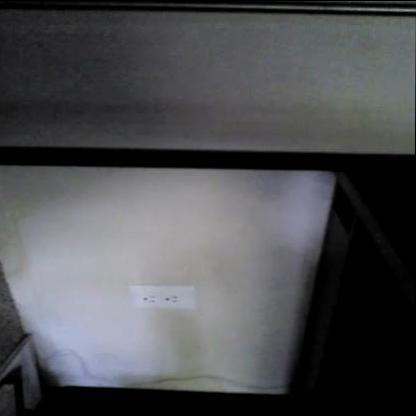OUTLET: (130, 285, 197, 307)
